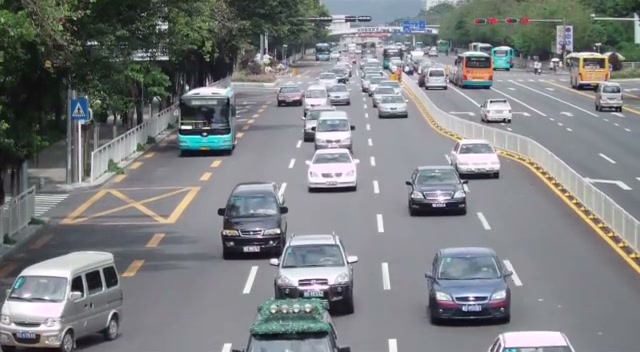bus: (176, 85, 237, 157), (566, 52, 611, 90), (450, 51, 494, 88)
car: (0, 250, 124, 352), (424, 246, 516, 326), (270, 232, 358, 315), (230, 297, 350, 352), (217, 181, 289, 259), (405, 164, 469, 216), (305, 147, 359, 192), (448, 138, 501, 179), (487, 331, 576, 352), (302, 108, 347, 142), (314, 115, 355, 152), (373, 89, 409, 119), (593, 81, 623, 112), (479, 97, 512, 124), (303, 84, 329, 111), (276, 83, 305, 107), (325, 83, 351, 105), (424, 68, 448, 91)
truck: (566, 52, 610, 90), (450, 51, 494, 88), (491, 46, 514, 70)
